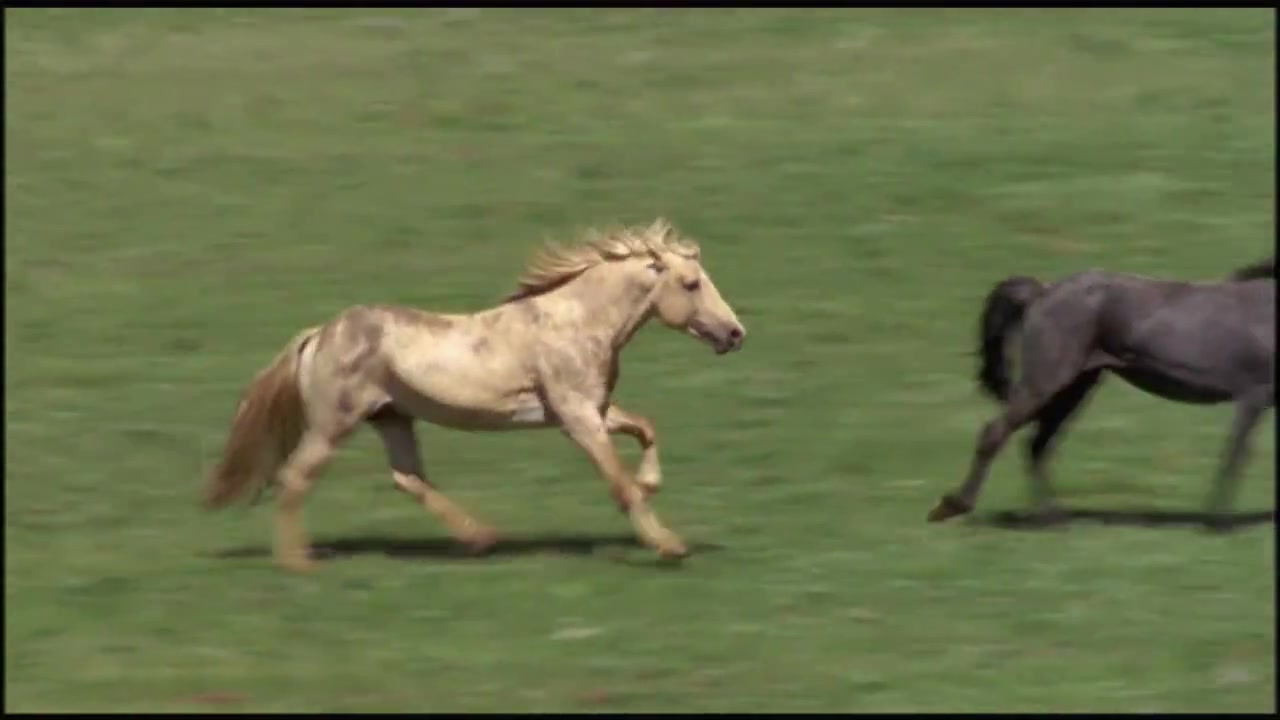horse: (197, 216, 757, 572)
